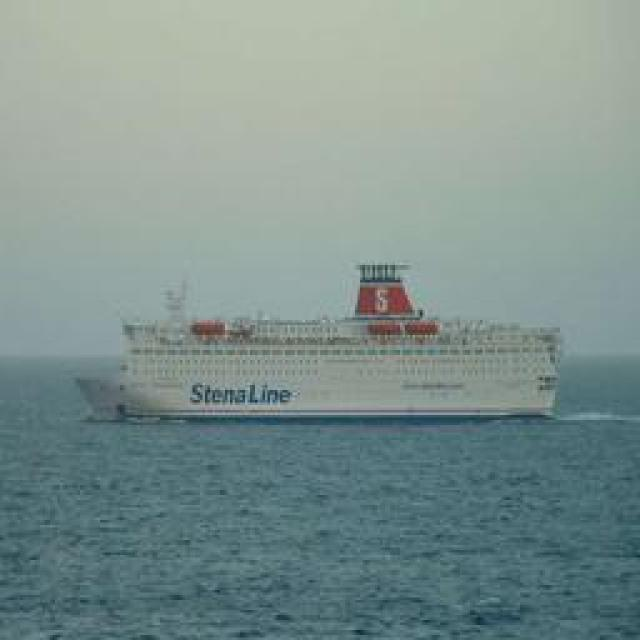CIV_Ship: (81, 302, 556, 422)
